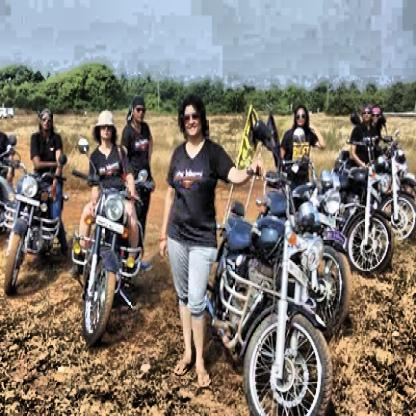not_wear: (174, 91, 202, 140), (93, 108, 111, 144), (295, 104, 311, 131), (41, 112, 53, 136), (129, 96, 140, 119), (363, 100, 371, 126)
